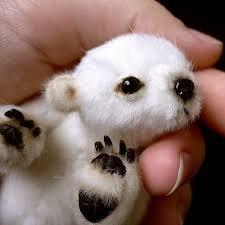bear: (1, 35, 204, 225)
